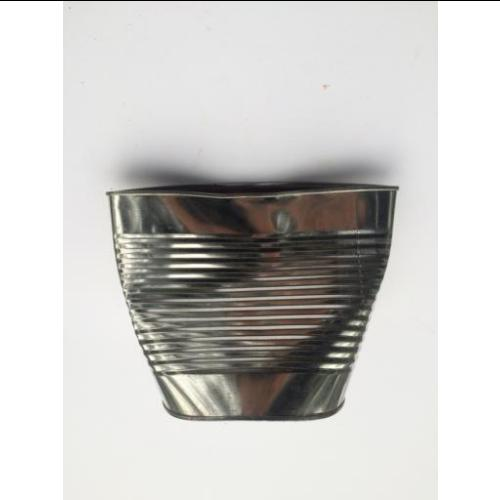metal: (104, 184, 399, 420)
